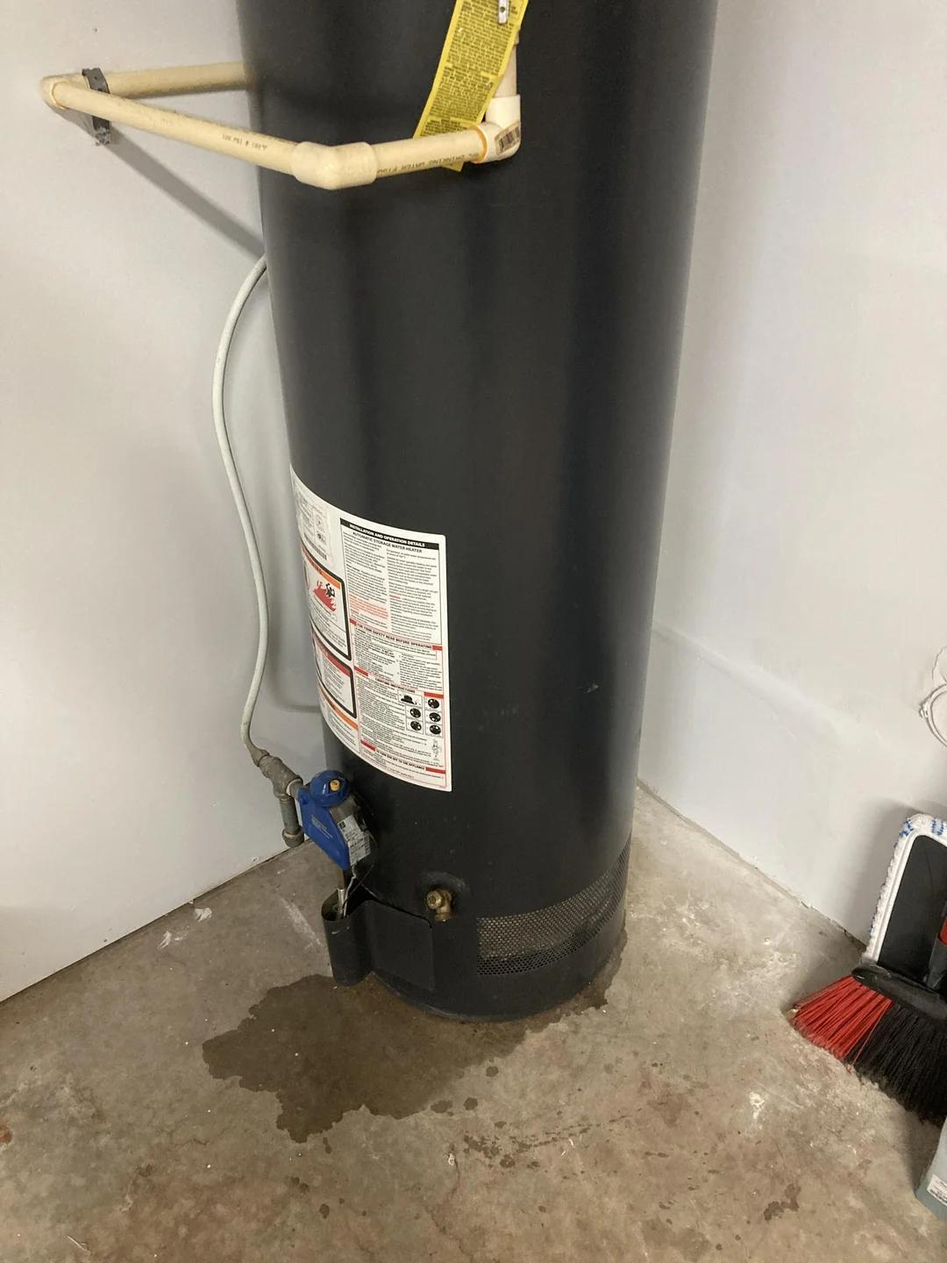water accumulation: (197, 940, 623, 1138)
